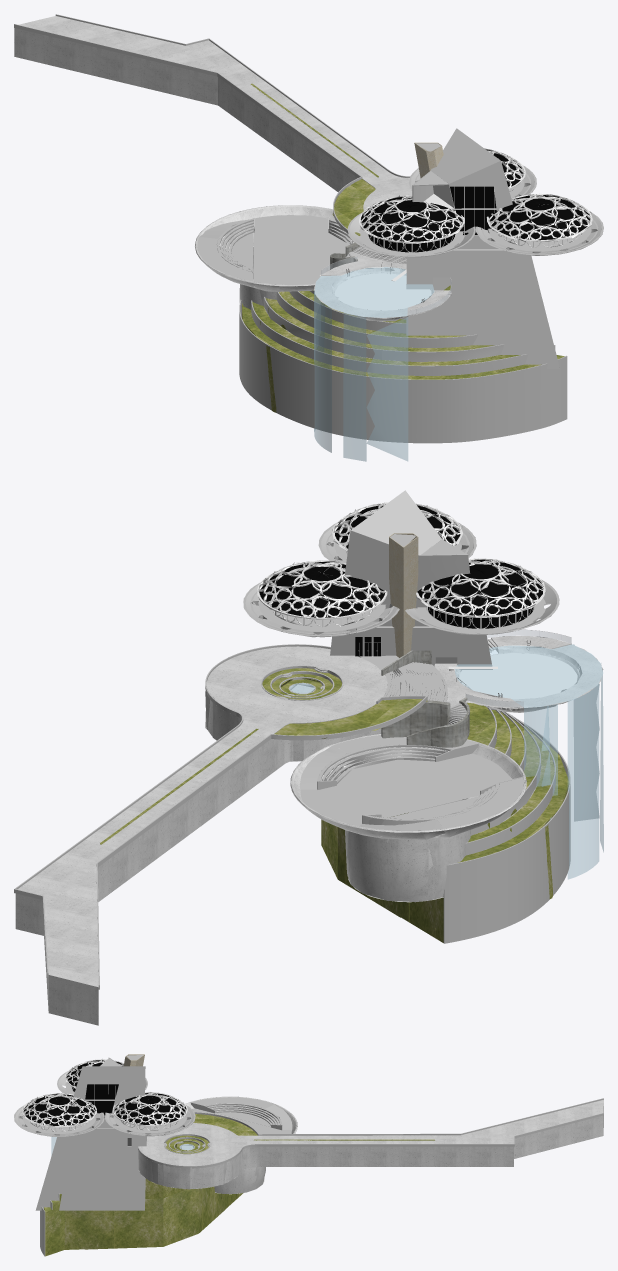
Rendered from outsidescenelowpoly.fbx.
The picture shows the model from 3 angles, top to bottom: view 1: azimuth 30°, elevation 25°; view 2: azimuth 150°, elevation 25°; view 3: azimuth 270°, elevation 25°; orthographic projection. The views are drawn at different scales.
Parts seen in each view (by area): view 1: 物件_1.005, 物件_1.002, 物件_11.003, 物件_2.003, 物件_11, 物件_30, 物件_31.002, 物件_43.002, 物件_10.003, 物件_31, 物件_9.003, 物件_1.007 (+22 smaller); view 2: 物件_1.002, 物件_11, 物件_1.005, 物件_31, 物件_30, 物件_31.002, 物件_3.002, 物件_43.002, 物件_29.002, 物件_2.003, 物件_1.007, 物件_11.003 (+30 smaller); view 3: 物件_1.002, 物件_11.003, 物件_6.004, 物件_11, 物件_43.002, 物件_4.001, 物件_4.006, 物件_7.006, 物件_31, 物件_6.006, 物件_5.006, 物件_3 (+13 smaller).
Part boxes in pixels (x1,y1,x2,y2): 物件_1.005: [239, 299, 567, 443]; 物件_1.002: [14, 16, 412, 210]; 物件_11.003: [406, 250, 559, 368]; 物件_2.003: [343, 313, 408, 461]; 物件_11: [20, 16, 412, 207]; 物件_30: [253, 215, 328, 287]; 物件_31.002: [314, 267, 434, 317]; 物件_43.002: [430, 128, 512, 248]; 物件_10.003: [251, 300, 555, 375]; 物件_31: [194, 205, 334, 317]; 物件_9.003: [263, 297, 504, 361]; 物件_1.007: [361, 197, 462, 241]; 物件_1.002: [15, 646, 387, 1025]; 物件_11: [15, 646, 387, 1009]; 物件_1.005: [443, 720, 570, 943]; 物件_31: [290, 734, 526, 902]; 物件_30: [300, 753, 512, 825]; 物件_31.002: [455, 644, 603, 707]; 物件_3.002: [567, 684, 599, 879]; 物件_43.002: [344, 490, 441, 626]; 物件_29.002: [459, 653, 577, 699]; 物件_2.003: [573, 644, 603, 852]; 物件_1.007: [417, 559, 543, 615]; 物件_11.003: [330, 627, 500, 712]; 物件_1.002: [138, 1100, 603, 1188]; 物件_11.003: [35, 1128, 146, 1210]; 物件_6.004: [102, 1179, 217, 1248]; 物件_11: [139, 1100, 603, 1189]; 物件_43.002: [73, 1066, 145, 1127]; 物件_4.001: [138, 1113, 603, 1168]; 物件_4.006: [23, 1094, 95, 1125]; 物件_7.006: [114, 1093, 186, 1124]; 物件_31: [185, 1096, 297, 1194]; 物件_6.006: [105, 1105, 195, 1136]; 物件_5.006: [14, 1105, 104, 1137]; 物件_3: [192, 1097, 292, 1129].
Size of the model in its own units: 6290 by 5774 by 16939.
